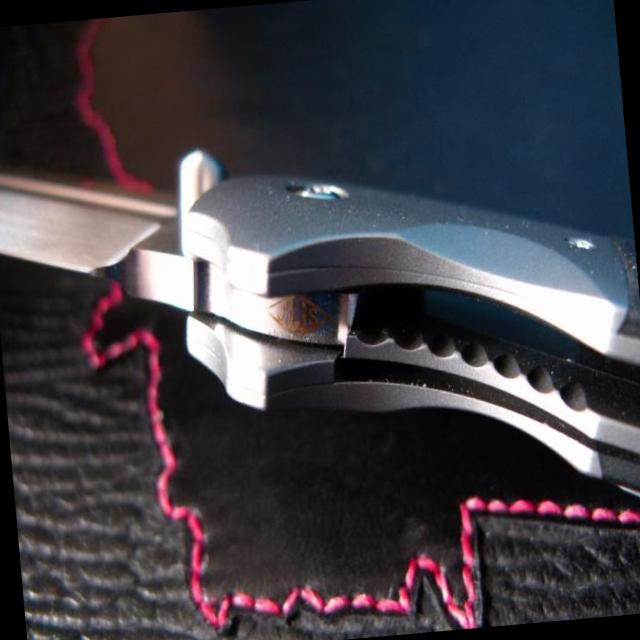Knife: (0, 150, 640, 502)
